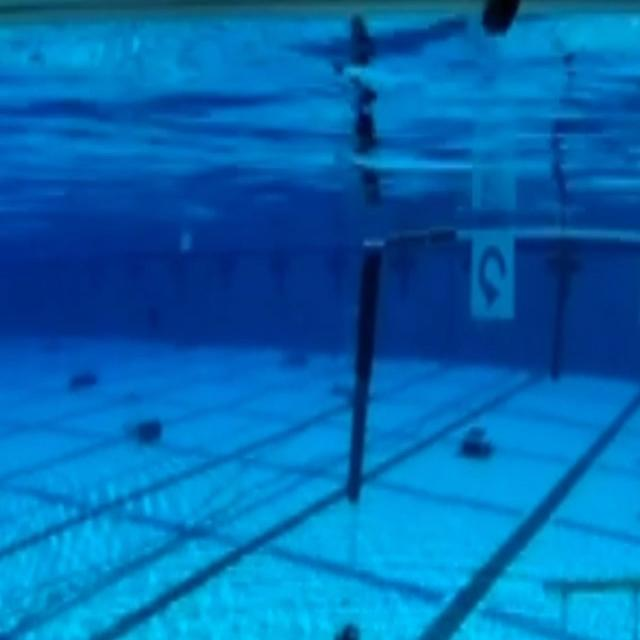Gate: (329, 217, 640, 519)
